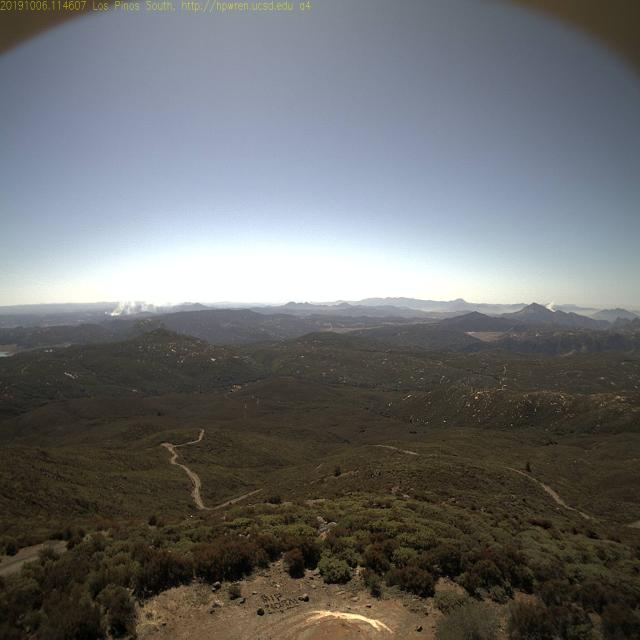smoke: (542, 296, 558, 312)
